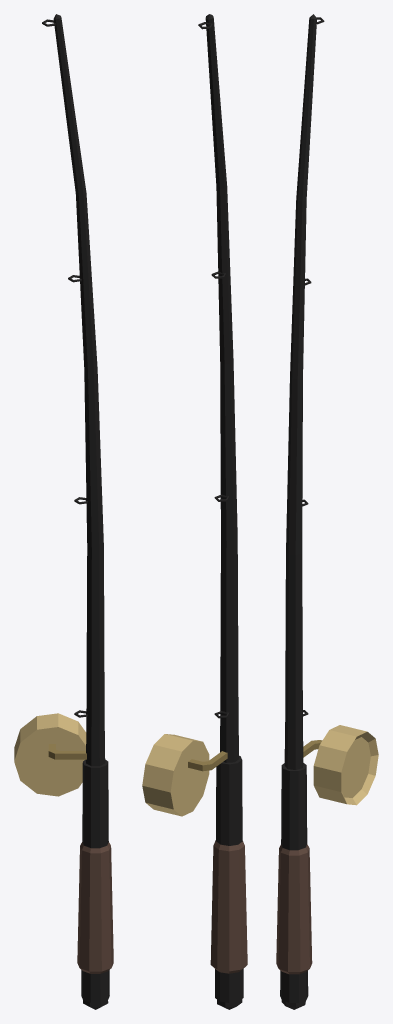
File: FishingRodUpgrade_2.fbx
The picture shows the model from 3 angles, left to right: view 1: azimuth 90°, elevation 25°; view 2: azimuth 150°, elevation 25°; view 3: azimuth 330°, elevation 25°; orthographic projection. The views are drawn at different scales.
Parts seen in each view (by area): view 1: pTorus2, pCylinder4, pCylinder5, pCube1; view 2: pTorus2, pCylinder5, pCylinder4, pCube1; view 3: pTorus2, pCylinder5, pCylinder4.
Part boxes in pixels (<box>): pTorus2: <box>42,14,109,1009</box>; pCylinder4: <box>14,713,86,796</box>; pCylinder5: <box>77,842,113,973</box>; pCube1: <box>48,744,86,759</box>; pTorus2: <box>198,14,243,1009</box>; pCylinder5: <box>210,841,247,973</box>; pCylinder4: <box>142,734,209,816</box>; pCube1: <box>188,751,227,771</box>; pTorus2: <box>280,14,324,1009</box>; pCylinder5: <box>276,844,312,974</box>; pCylinder4: <box>313,725,378,805</box>.
Bounding box in the file's own units: 0.5366 × 8.5 × 0.7705.
